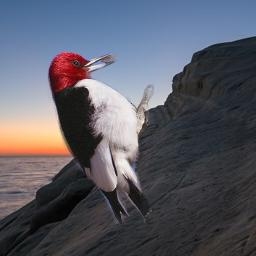Woodpecker: (47, 51, 154, 224)
